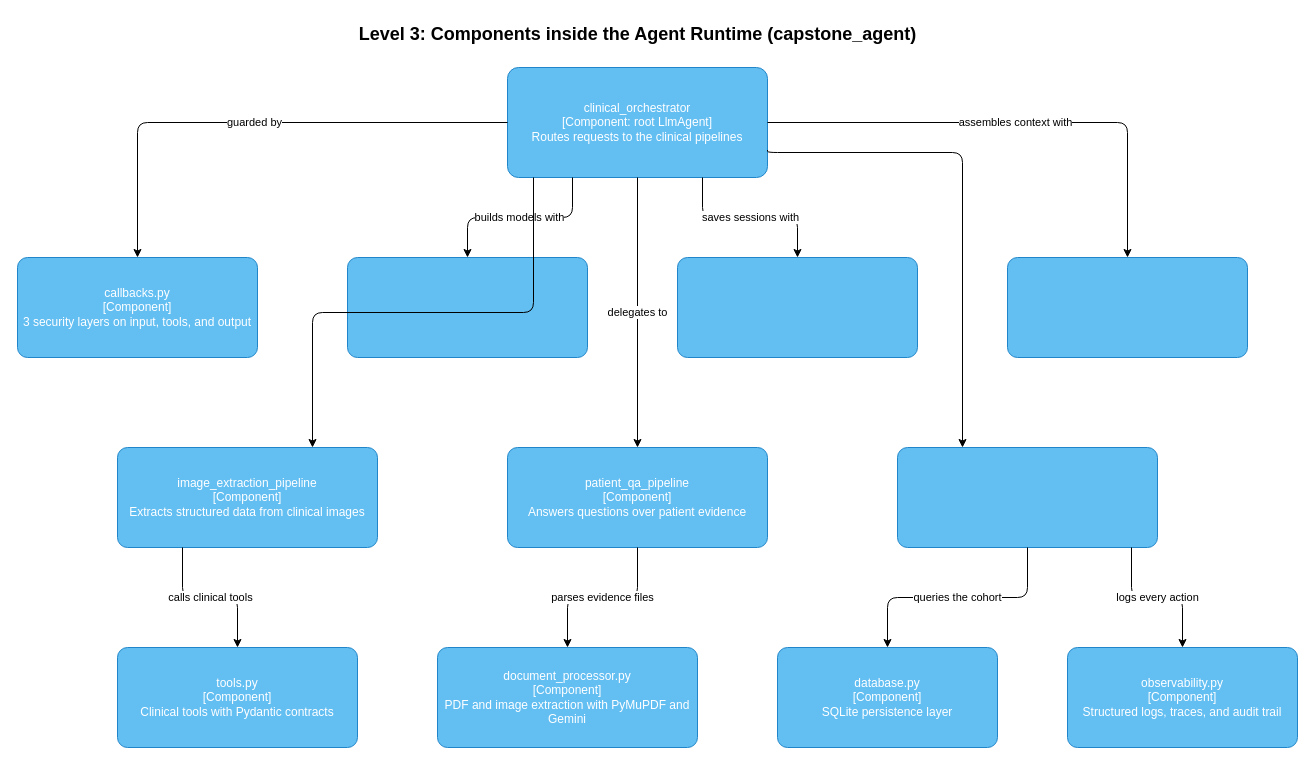
The diagram is 1315 pixels wide and 765 high, and some of its shapes have lost their labels. The centre of each missing label's shape, as x and y in pixels:
"context.py [Component] Token budgeting and structured context assembly" belongs at (1127,307).
"db_intelligence_pipeline [Component] Runs governed analytics over the cohort" belongs at (1027,497).
"llm.py [Component] Model tier registry with retry and backoff" belongs at (467,307).
"memory.py [Component] Session state and long term memory governance" belongs at (797,307).
